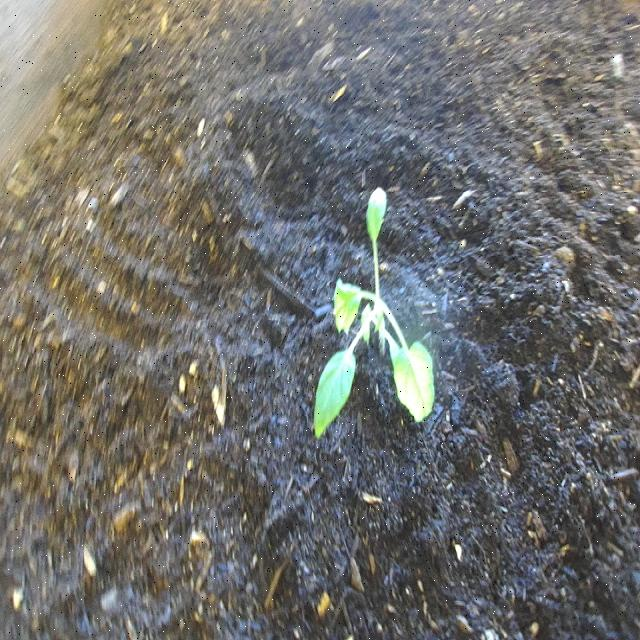Healthy: (310, 186, 438, 445)
